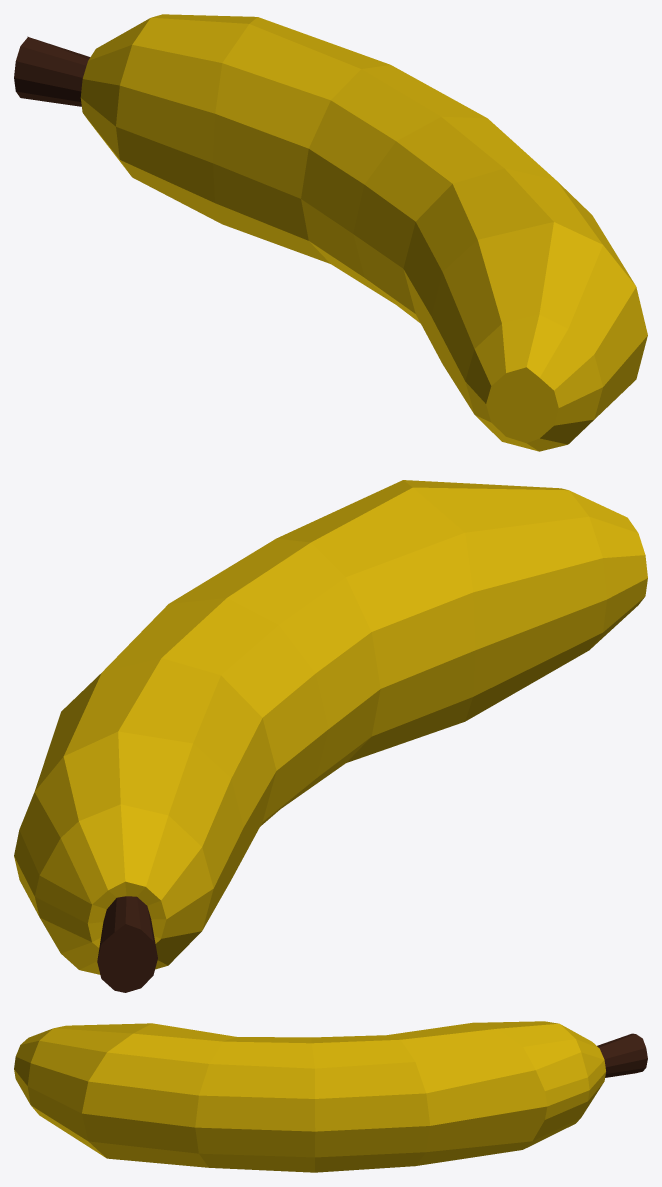
File: LudumDareBanana 1.fbx
3 renders of one model, top to bottom at view 1: azimuth 30°, elevation 25°; view 2: azimuth 150°, elevation 25°; view 3: azimuth 270°, elevation 25°, orthographic. The views are drawn at different scales.
Visible parts, largest first — view 1: Banana, Banana.001; view 2: Banana, Banana.001; view 3: Banana, Banana.001.
Part boxes in pixels (x1,y1,x2,y2): Banana: (80, 14, 647, 451); Banana.001: (14, 36, 90, 106); Banana: (14, 480, 647, 974); Banana.001: (97, 896, 157, 992); Banana: (14, 1021, 605, 1172); Banana.001: (597, 1033, 647, 1077).
Bounding box in the file's own units: 4.53 × 3.16 × 14.43.
